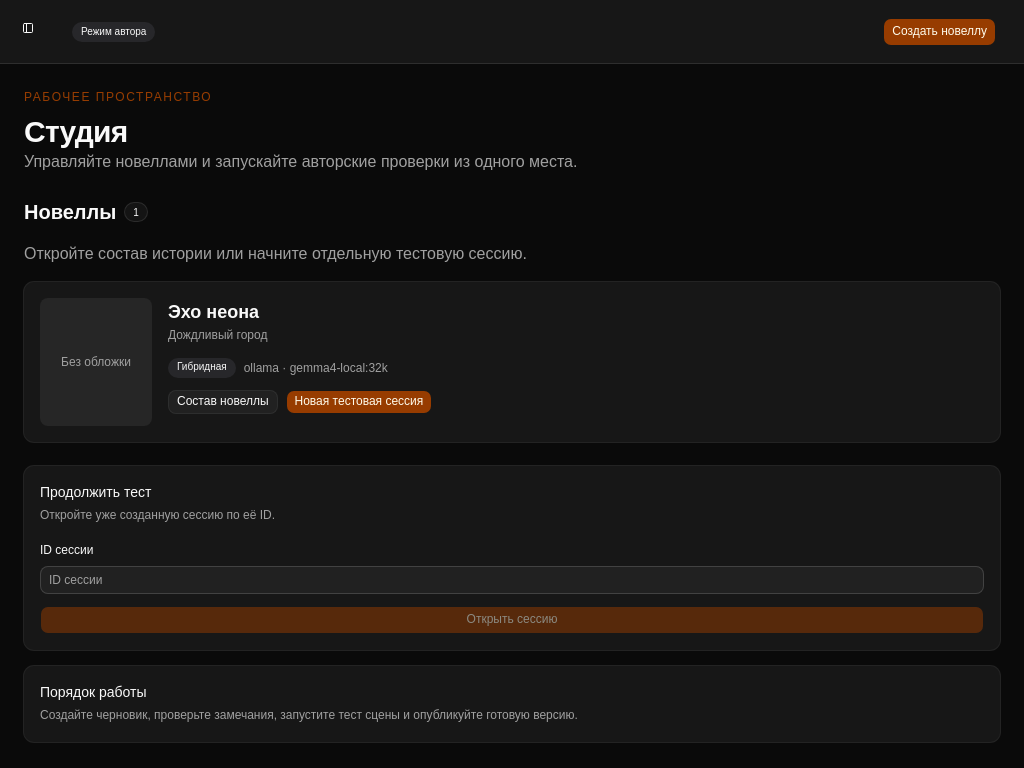
Scenario: создаёт отдельную тестовую сессию с настроенной моделью сервера
Click the button "Новая тестовая сессия" at (359, 402), box [286,390,432,414]
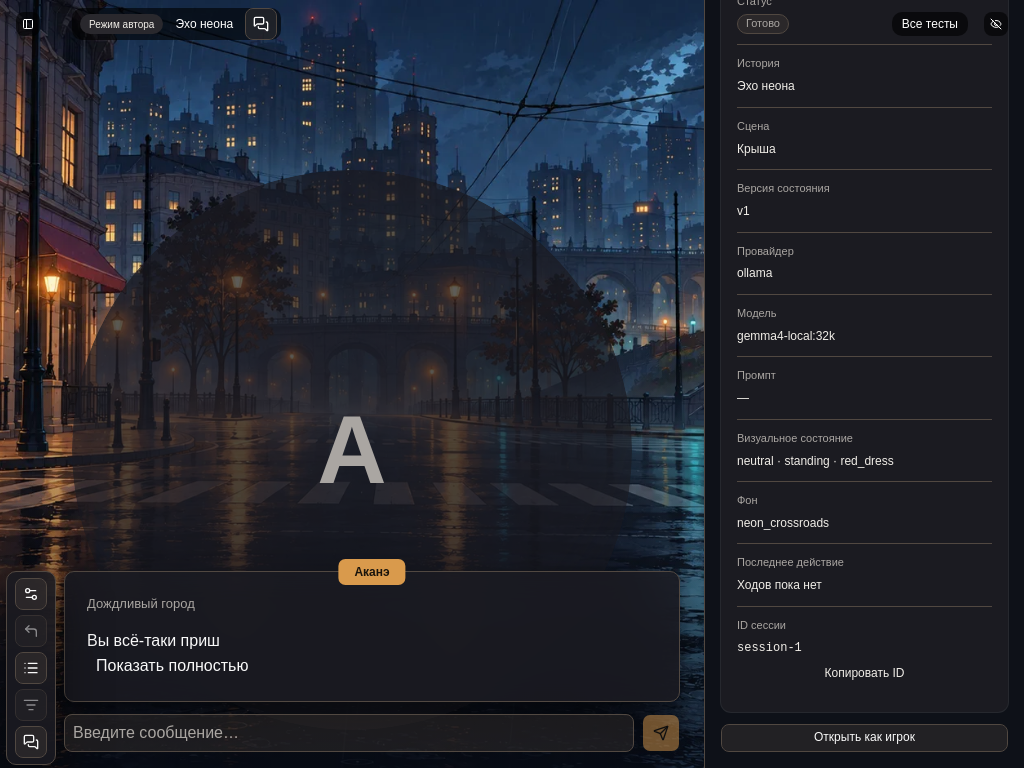
Result: the text "Крыша" is shown at [737,142,776,156]
